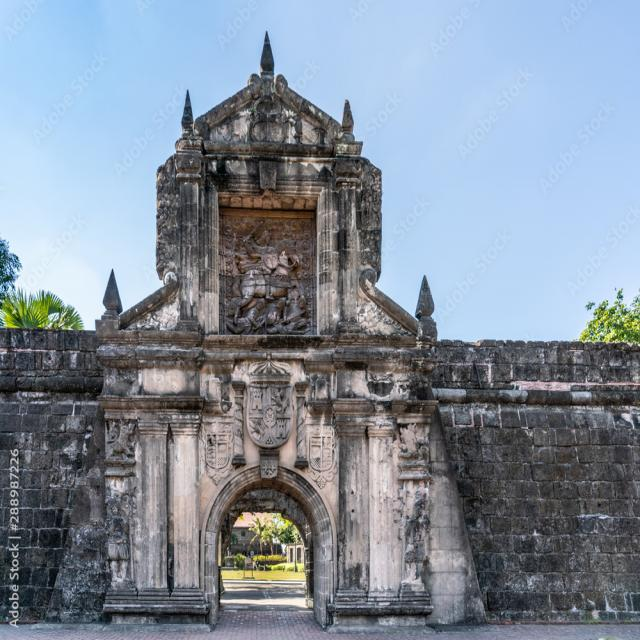Fort Santiago: (1, 33, 638, 631)
